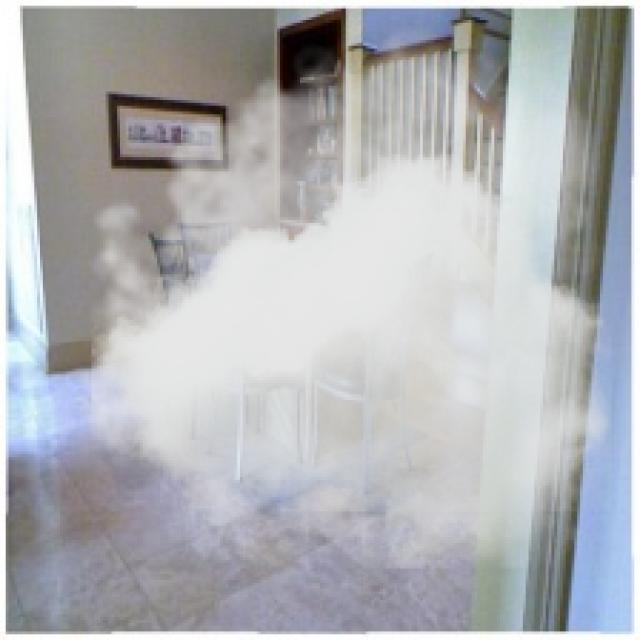smoke: (57, 9, 612, 568)
